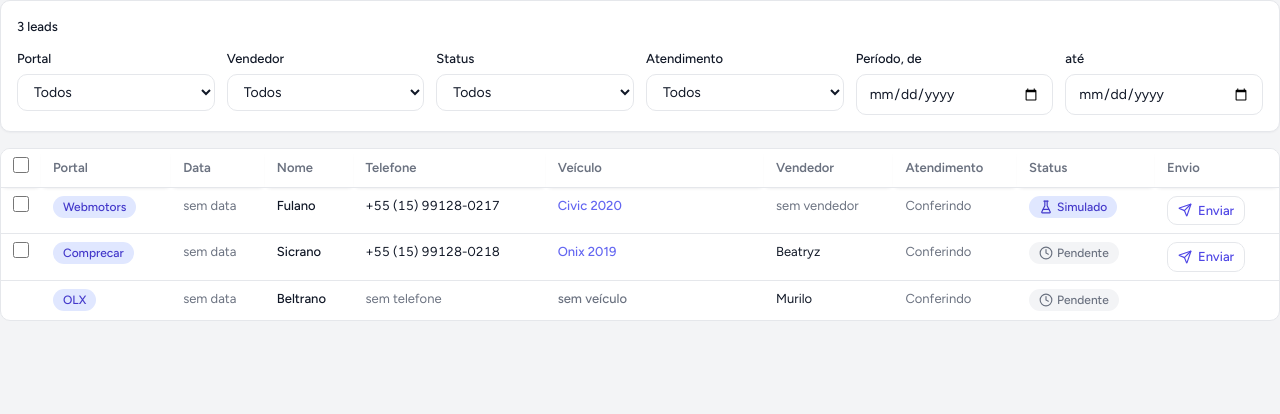
Test: tela de leads: selecao para o envio em lote › selecionar todos os visiveis marca o que o filtro mostra, e so' isso
The width and height of the screenshot is (1280, 414).
Expected: the text "Fulano" is shown, [265,188,354,234]
Click the checkbox named "selecionar todos os vis" at coordinates (21, 165), box [13,157,29,173]
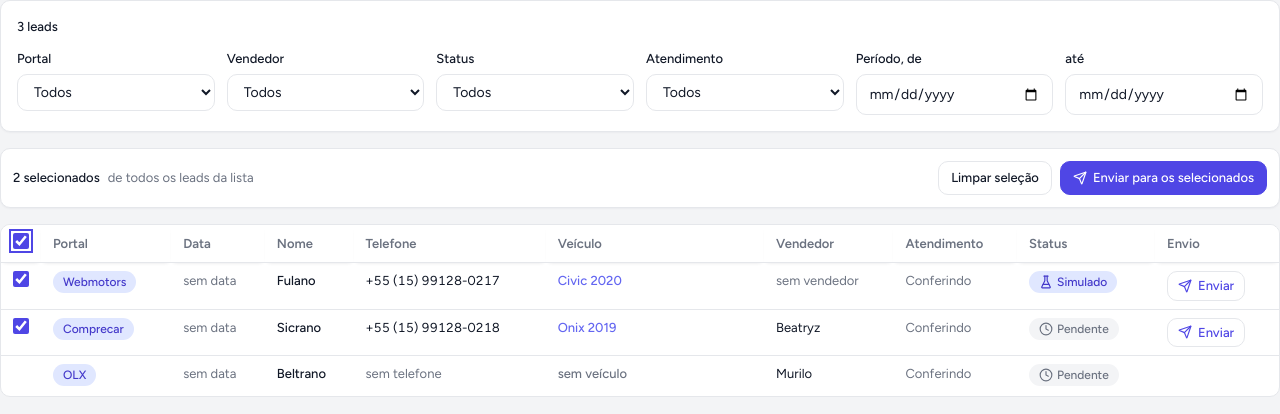
Expected: the text "2 selecionados" is shown, [13,170,100,185]
